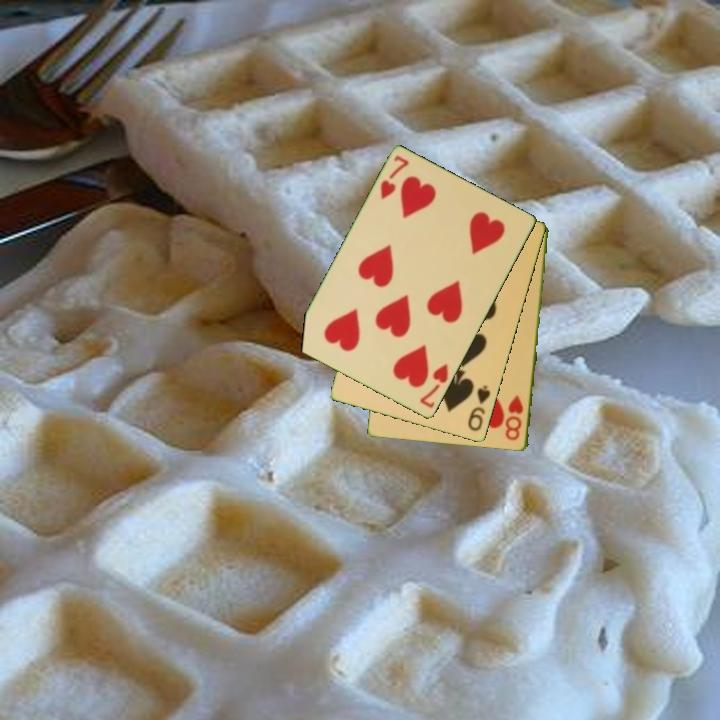7h: (416, 361, 451, 411), (377, 152, 412, 202)
8h: (502, 392, 526, 444)
9s: (464, 382, 494, 434)
